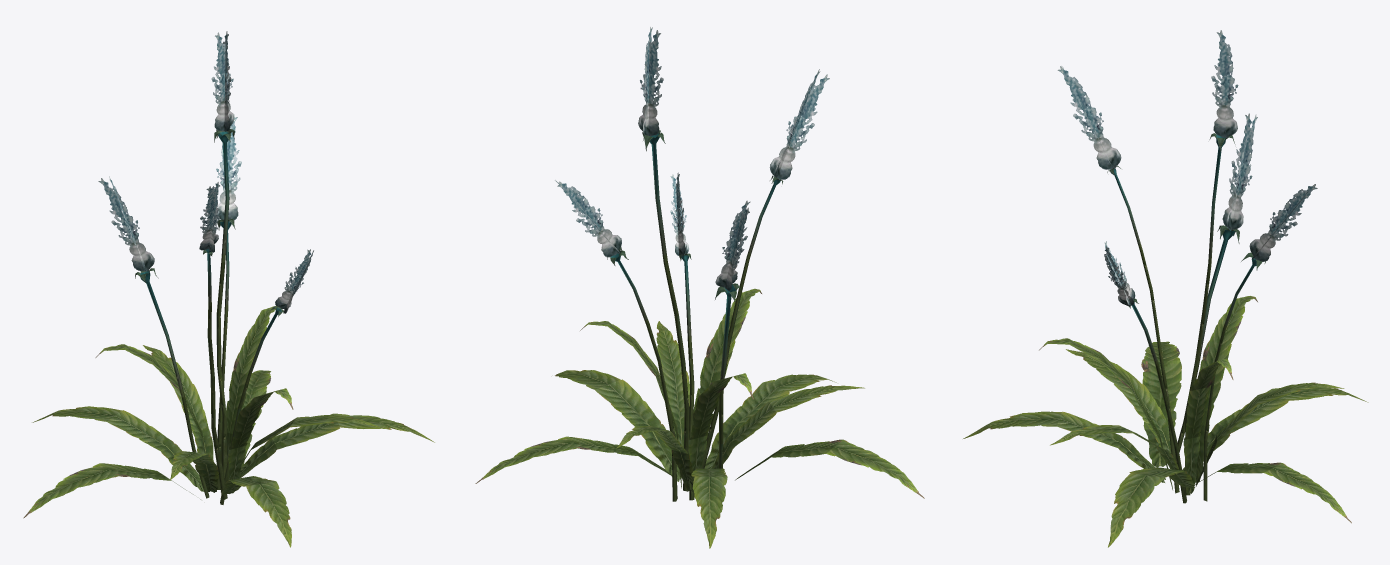
The model's file is bg_anh_foliage_te_b58_sm_old.FBX.
3 renders of one model, left to right at view 1: azimuth 30°, elevation 25°; view 2: azimuth 150°, elevation 25°; view 3: azimuth 270°, elevation 25°, orthographic. The views are drawn at different scales.
Parts seen in each view (by area): view 1: bg_anh_foliage_te_b58_sm_old; view 2: bg_anh_foliage_te_b58_sm_old; view 3: bg_anh_foliage_te_b58_sm_old.
Boxes of the visible parts, box(x1,y1,x2,y2) form: bg_anh_foliage_te_b58_sm_old: box(23, 31, 434, 547); bg_anh_foliage_te_b58_sm_old: box(475, 27, 924, 548); bg_anh_foliage_te_b58_sm_old: box(963, 30, 1368, 547).
Size of the model in its own units: 101 by 114 by 87.31.
